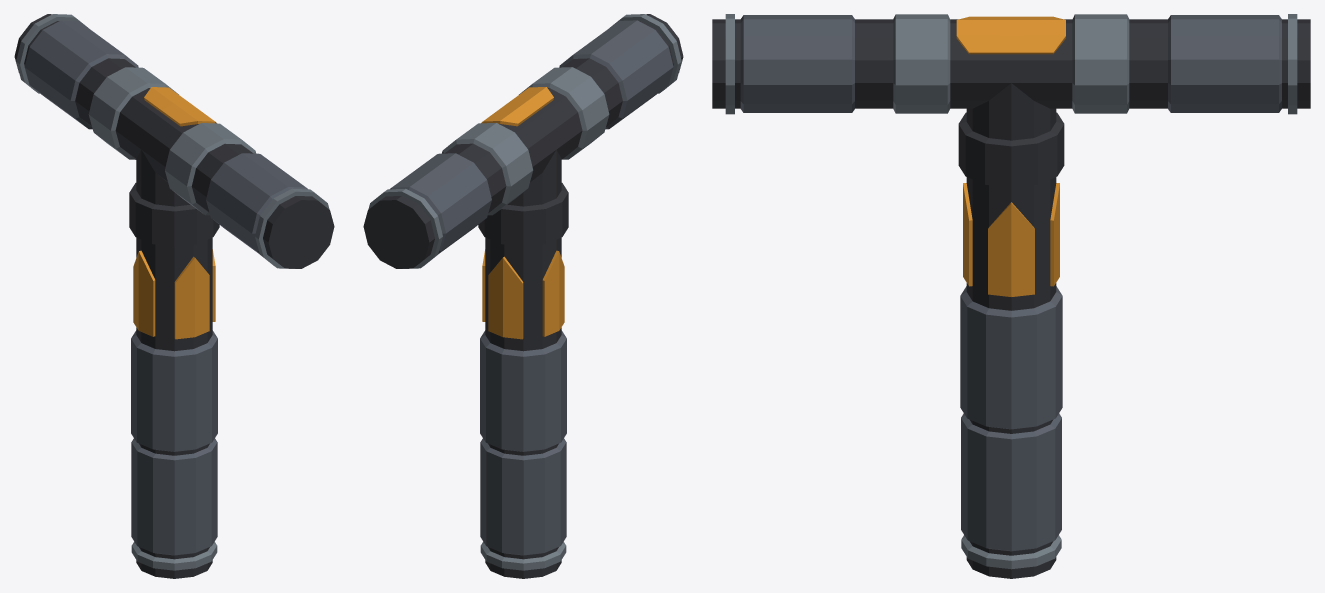
File: SM_T-shaped_electric_pipe.glb
The picture shows the model from 3 angles, left to right: view 1: azimuth 30°, elevation 25°; view 2: azimuth 150°, elevation 25°; view 3: azimuth 270°, elevation 25°; orthographic projection. The views are drawn at different scales.
Visible parts, largest first — view 1: SM_T-shaped_electric_pipe; view 2: SM_T-shaped_electric_pipe; view 3: SM_T-shaped_electric_pipe.
Boxes of the visible parts, box(x1,y1,x2,y2) form: SM_T-shaped_electric_pipe: box(14, 14, 334, 578); SM_T-shaped_electric_pipe: box(363, 14, 683, 578); SM_T-shaped_electric_pipe: box(712, 14, 1310, 578).
Size of the model in its own units: 0.3544 by 2 by 2.
1 material, 1 textured.
